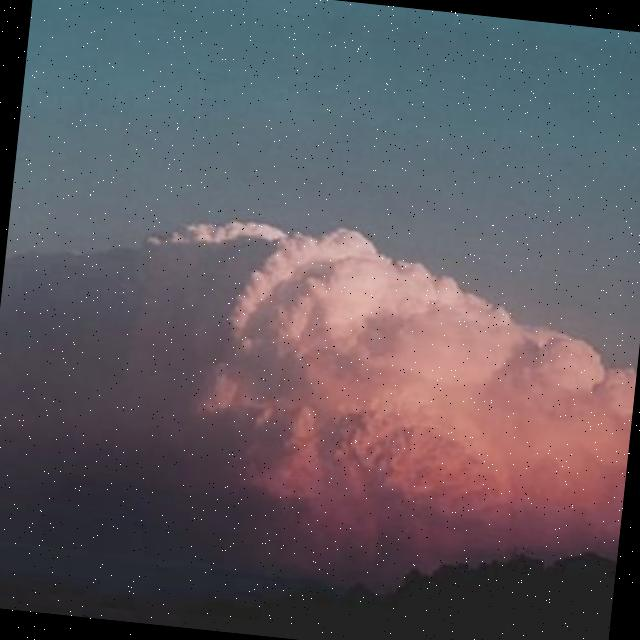Cb: (1, 64, 640, 522)
